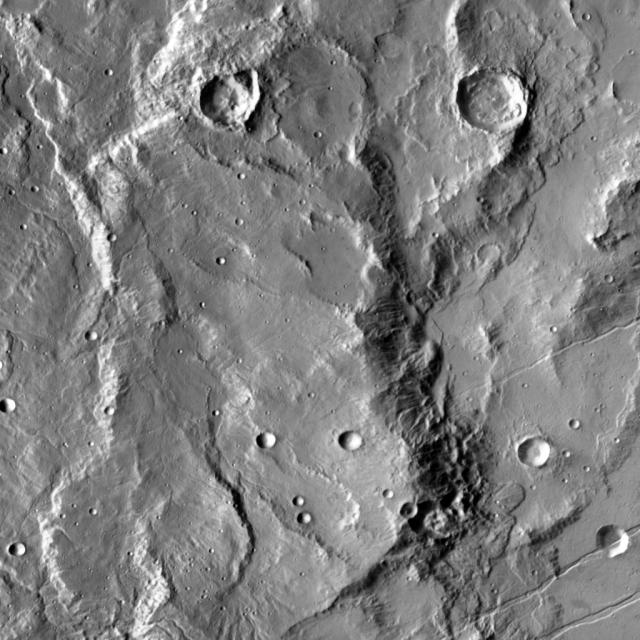crater: (360, 204, 640, 472), (54, 452, 254, 630), (0, 182, 127, 344), (231, 41, 376, 171), (463, 71, 535, 136), (572, 0, 640, 56), (206, 72, 268, 127), (601, 526, 638, 560), (526, 442, 558, 471), (381, 36, 410, 62), (346, 434, 368, 454), (484, 247, 504, 264), (264, 435, 282, 452), (408, 506, 424, 522), (5, 402, 21, 416), (354, 105, 370, 119), (16, 546, 32, 559), (304, 515, 319, 527), (390, 491, 402, 502), (92, 333, 104, 343), (577, 422, 587, 432), (301, 500, 311, 510), (111, 409, 121, 418), (0, 364, 9, 374), (114, 237, 124, 245), (612, 277, 621, 285), (37, 189, 45, 197), (588, 15, 597, 22), (224, 261, 233, 268), (243, 221, 251, 228), (106, 65, 113, 72), (321, 134, 328, 141), (91, 504, 98, 511), (5, 150, 13, 156)
